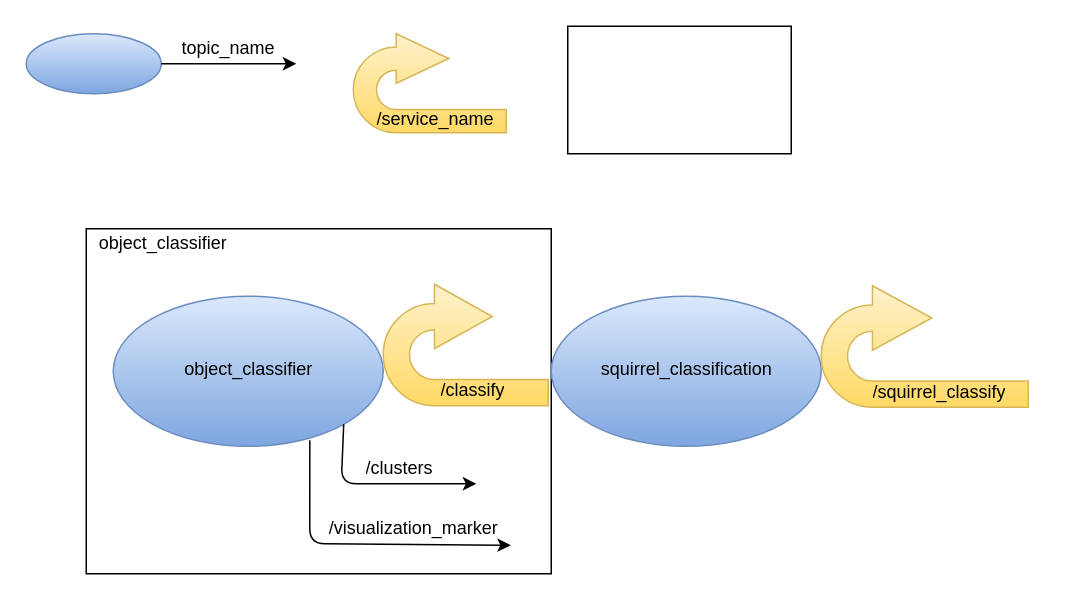
Image size: 1085x600. Some labels were removed from this diagram. The box of each missing label's shape, as (x1, y1, x2, y2) in pixels:
node_name: (25, 32, 161, 94)
package_name: (566, 25, 791, 154)
